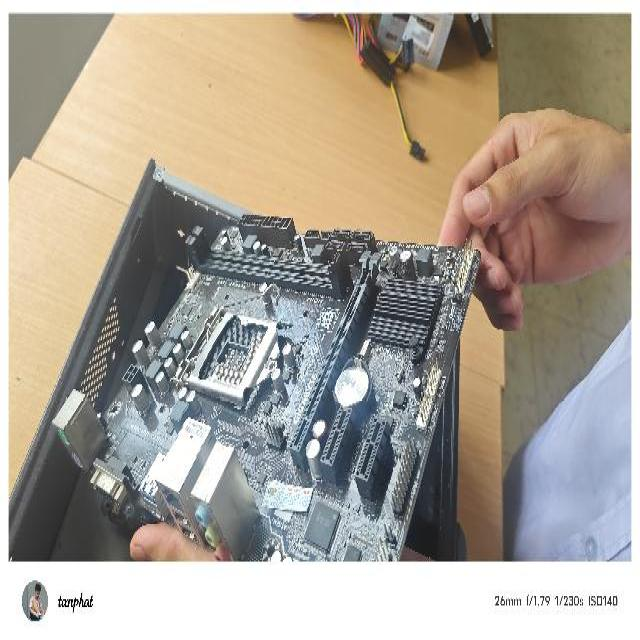Mainboard: (52, 208, 483, 562)
